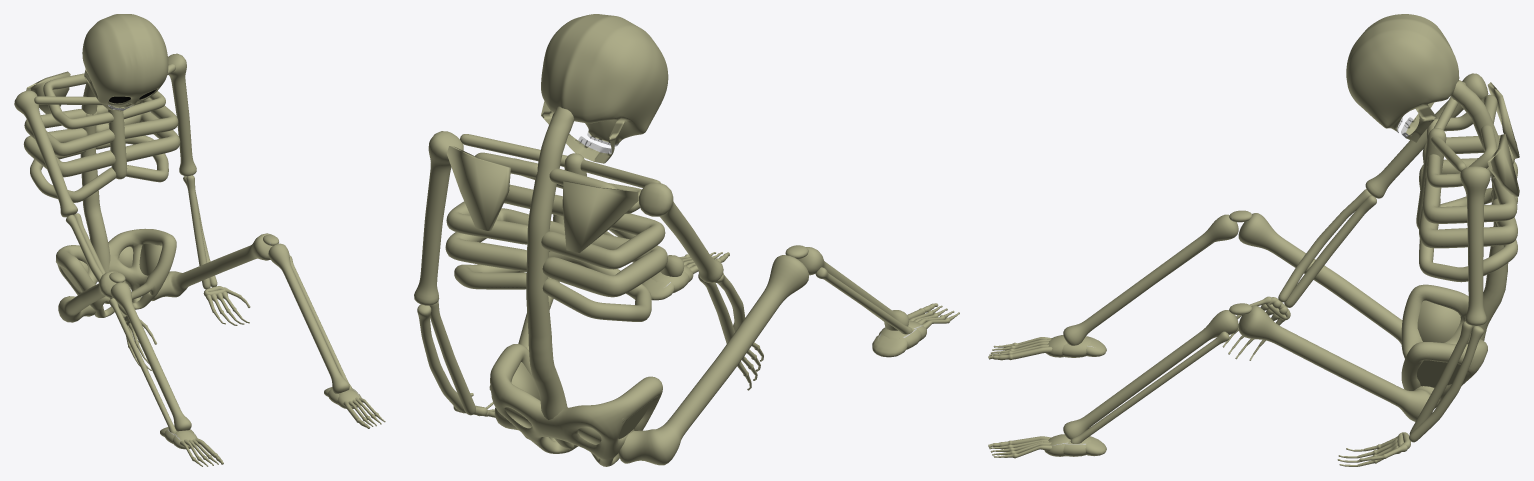
Rendered from Sitting skeleton.glb.
The picture shows the model from 3 angles, left to right: view 1: azimuth 30°, elevation 25°; view 2: azimuth 150°, elevation 25°; view 3: azimuth 270°, elevation 25°; orthographic projection. The views are drawn at different scales.
Visible parts, largest first — view 1: Dup ruggengraad.003, Dup skull.003, Dup fibula&tibia.l.001, Dup femur.l.001, Dup foot.l, Dup humerus.r.003, Dup Humerus.l.003, Dup Ulna&radius.l.003, Dup Ulna&radius.r.003, Dup hand.l.003; view 2: Dup ruggengraad.003, Dup skull.003, Dup femur.l.001, Dup Humerus.l.003, Dup foot.l, Dup fibula&tibia.l.001, Dup humerus.r.003, Dup Ulna&radius.l.003, Dup Ulna&radius.r.003; view 3: Dup ruggengraad.003, Dup skull.003, Dup femur.l.001, Dup fibula&tibia.l.001, Dup foot.l, Dup Humerus.l.003, Dup Ulna&radius.r.003, Dup Ulna&radius.l.003, Dup humerus.r.003, Dup hand.l.003, Dup hand.r.003.
Boxes of the visible parts, x1=… form: Dup ruggengraad.003: x1=23, y1=64, x2=180, y2=317; Dup skull.003: x1=82, y1=14, x2=168, y2=111; Dup fibula&tibia.l.001: x1=109, y1=243, x2=352, y2=432; Dup femur.l.001: x1=58, y1=233, x2=272, y2=322; Dup foot.l: x1=160, y1=387, x2=385, y2=466; Dup humerus.r.003: x1=14, y1=90, x2=77, y2=217; Dup Humerus.l.003: x1=168, y1=53, x2=196, y2=176; Dup Ulna&radius.l.003: x1=183, y1=175, x2=217, y2=289; Dup Ulna&radius.r.003: x1=66, y1=213, x2=126, y2=318; Dup hand.l.003: x1=203, y1=286, x2=250, y2=325; Dup ruggengraad.003: x1=445, y1=106, x2=667, y2=466; Dup skull.003: x1=541, y1=14, x2=668, y2=163; Dup femur.l.001: x1=494, y1=214, x2=809, y2=465; Dup Humerus.l.003: x1=414, y1=131, x2=463, y2=305; Dup foot.l: x1=642, y1=252, x2=959, y2=357; Dup fibula&tibia.l.001: x1=604, y1=228, x2=912, y2=334; Dup humerus.r.003: x1=639, y1=182, x2=723, y2=282; Dup Ulna&radius.l.003: x1=417, y1=301, x2=475, y2=415; Dup Ulna&radius.r.003: x1=698, y1=273, x2=745, y2=343; Dup ruggengraad.003: x1=1401, y1=80, x2=1519, y2=407; Dup skull.003: x1=1346, y1=14, x2=1459, y2=142; Dup femur.l.001: x1=1238, y1=213, x2=1440, y2=421; Dup fibula&tibia.l.001: x1=1063, y1=214, x2=1238, y2=443; Dup foot.l: x1=988, y1=335, x2=1106, y2=458; Dup Humerus.l.003: x1=1460, y1=166, x2=1490, y2=325; Dup Ulna&radius.r.003: x1=1278, y1=189, x2=1376, y2=307; Dup Ulna&radius.l.003: x1=1409, y1=321, x2=1483, y2=442; Dup humerus.r.003: x1=1365, y1=73, x2=1488, y2=198; Dup hand.l.003: x1=1337, y1=432, x2=1410, y2=466; Dup hand.r.003: x1=1222, y1=296, x2=1290, y2=360.
Size of the model in its own units: 1.91 by 2.85 by 3.55.
Materials: 1 (1 with a texture image).
